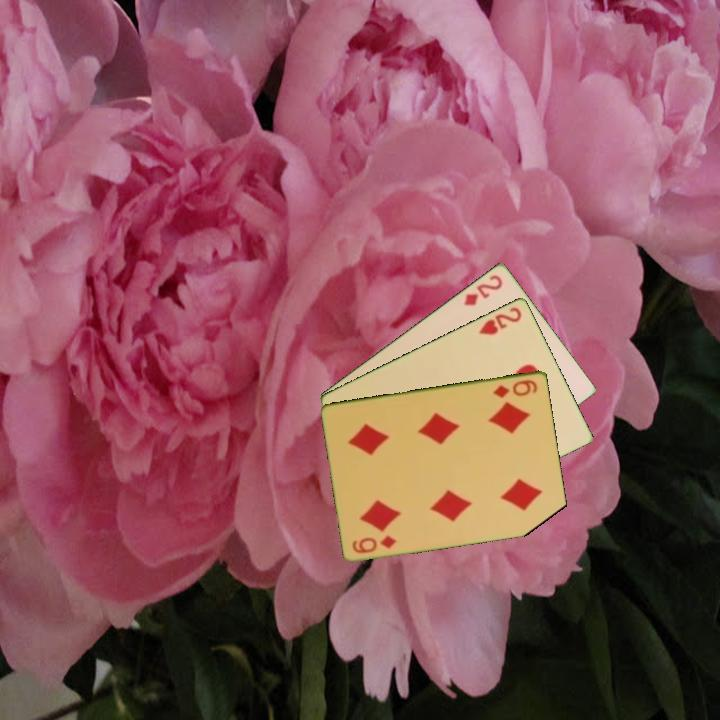2d: (460, 271, 506, 308)
2h: (475, 303, 525, 337)
6d: (349, 532, 400, 556), (490, 376, 540, 400)
